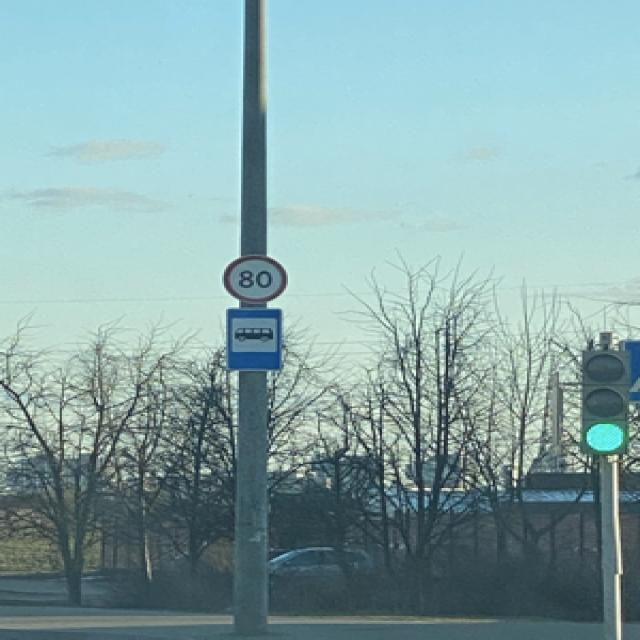speedlimit: (218, 252, 282, 298)
trafficlight: (576, 346, 627, 452)
